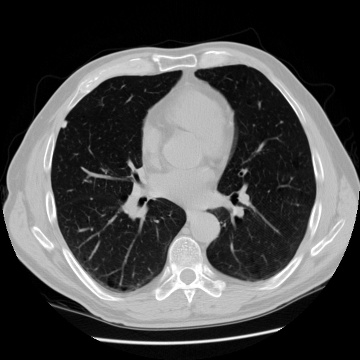PN: (60, 120, 68, 128)
